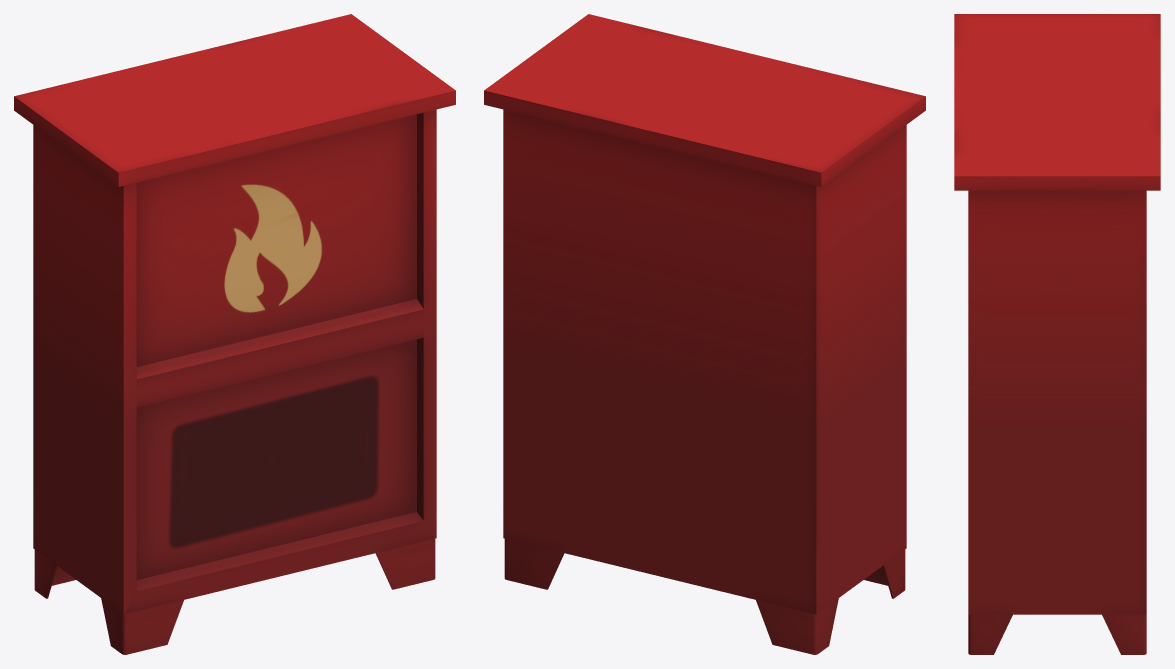
Rendered from Fire Box.fbx.
3 renders of one model, left to right at view 1: azimuth 30°, elevation 25°; view 2: azimuth 150°, elevation 25°; view 3: azimuth 270°, elevation 25°, orthographic.
Visible parts, largest first — view 1: Fire_Box; view 2: Fire_Box; view 3: Fire_Box.
Part boxes in pixels (x1,y1,x2,y2): Fire_Box: (14,14,455,654); Fire_Box: (484,14,925,654); Fire_Box: (954,14,1160,654).
Size of the model in its own units: 17.97 by 25 by 9.64.
1 material, 1 textured.
